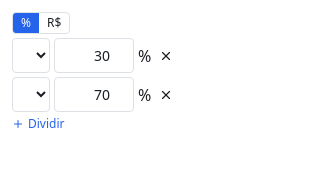
Test: shared components › RF-26: SplitEditor switches to amounts, keeping each part, and says what is over
Click the button named "Dividir por valor" at (54, 23), box [39,13,69,33]
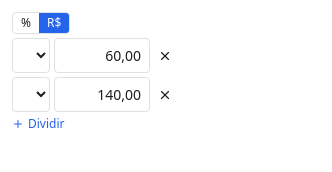
Replace the text in the 2nd field named "Valor da conta" with "150,00" at (102, 94), box [54,77,150,112]
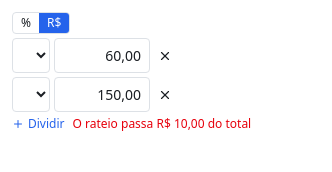
Result: the message reads "O rateio passa R$ 10,00 do total" at [72,115,251,132]
